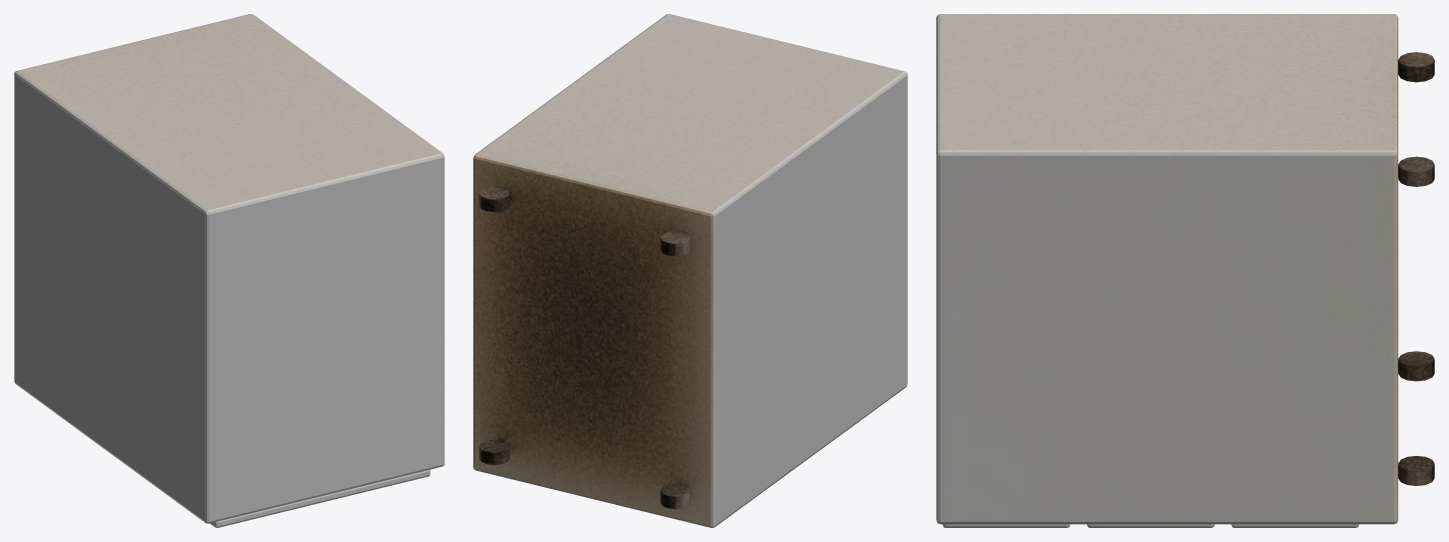
3 renders of one model, left to right at view 1: azimuth 30°, elevation 25°; view 2: azimuth 150°, elevation 25°; view 3: azimuth 270°, elevation 25°, orthographic. The views are drawn at different scales.
Parts seen in each view (by area): view 1: E3_final.001; view 2: E3_final.001; view 3: E3_final.001.
Part boxes in pixels (x1,y1,x2,y2): E3_final.001: (14,14,444,527); E3_final.001: (473,14,907,527); E3_final.001: (936,14,1434,527).
Size of the model in its own units: 0.4 by 0.516 by 0.604.
Materials: 1 (1 with a texture image).
